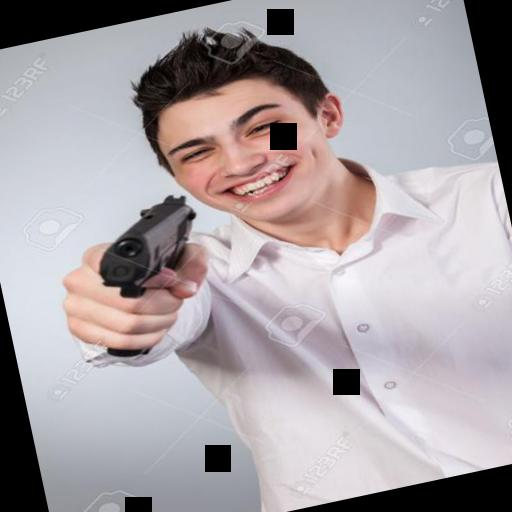Handgun: (71, 182, 227, 366)
